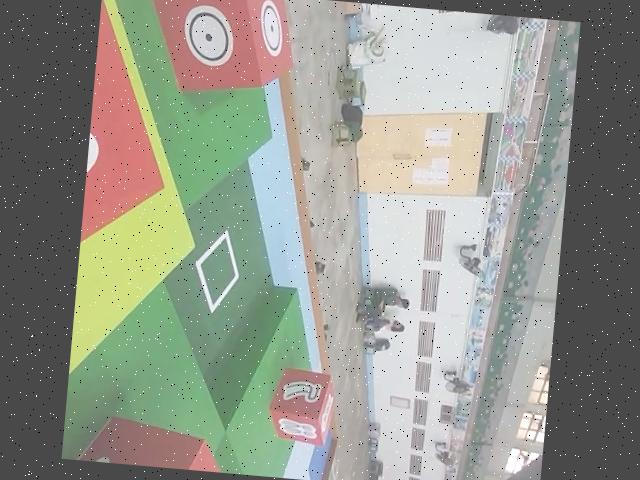R2 Fake: (264, 363, 340, 447)
R2 Real: (138, 0, 294, 99), (60, 413, 235, 474)
